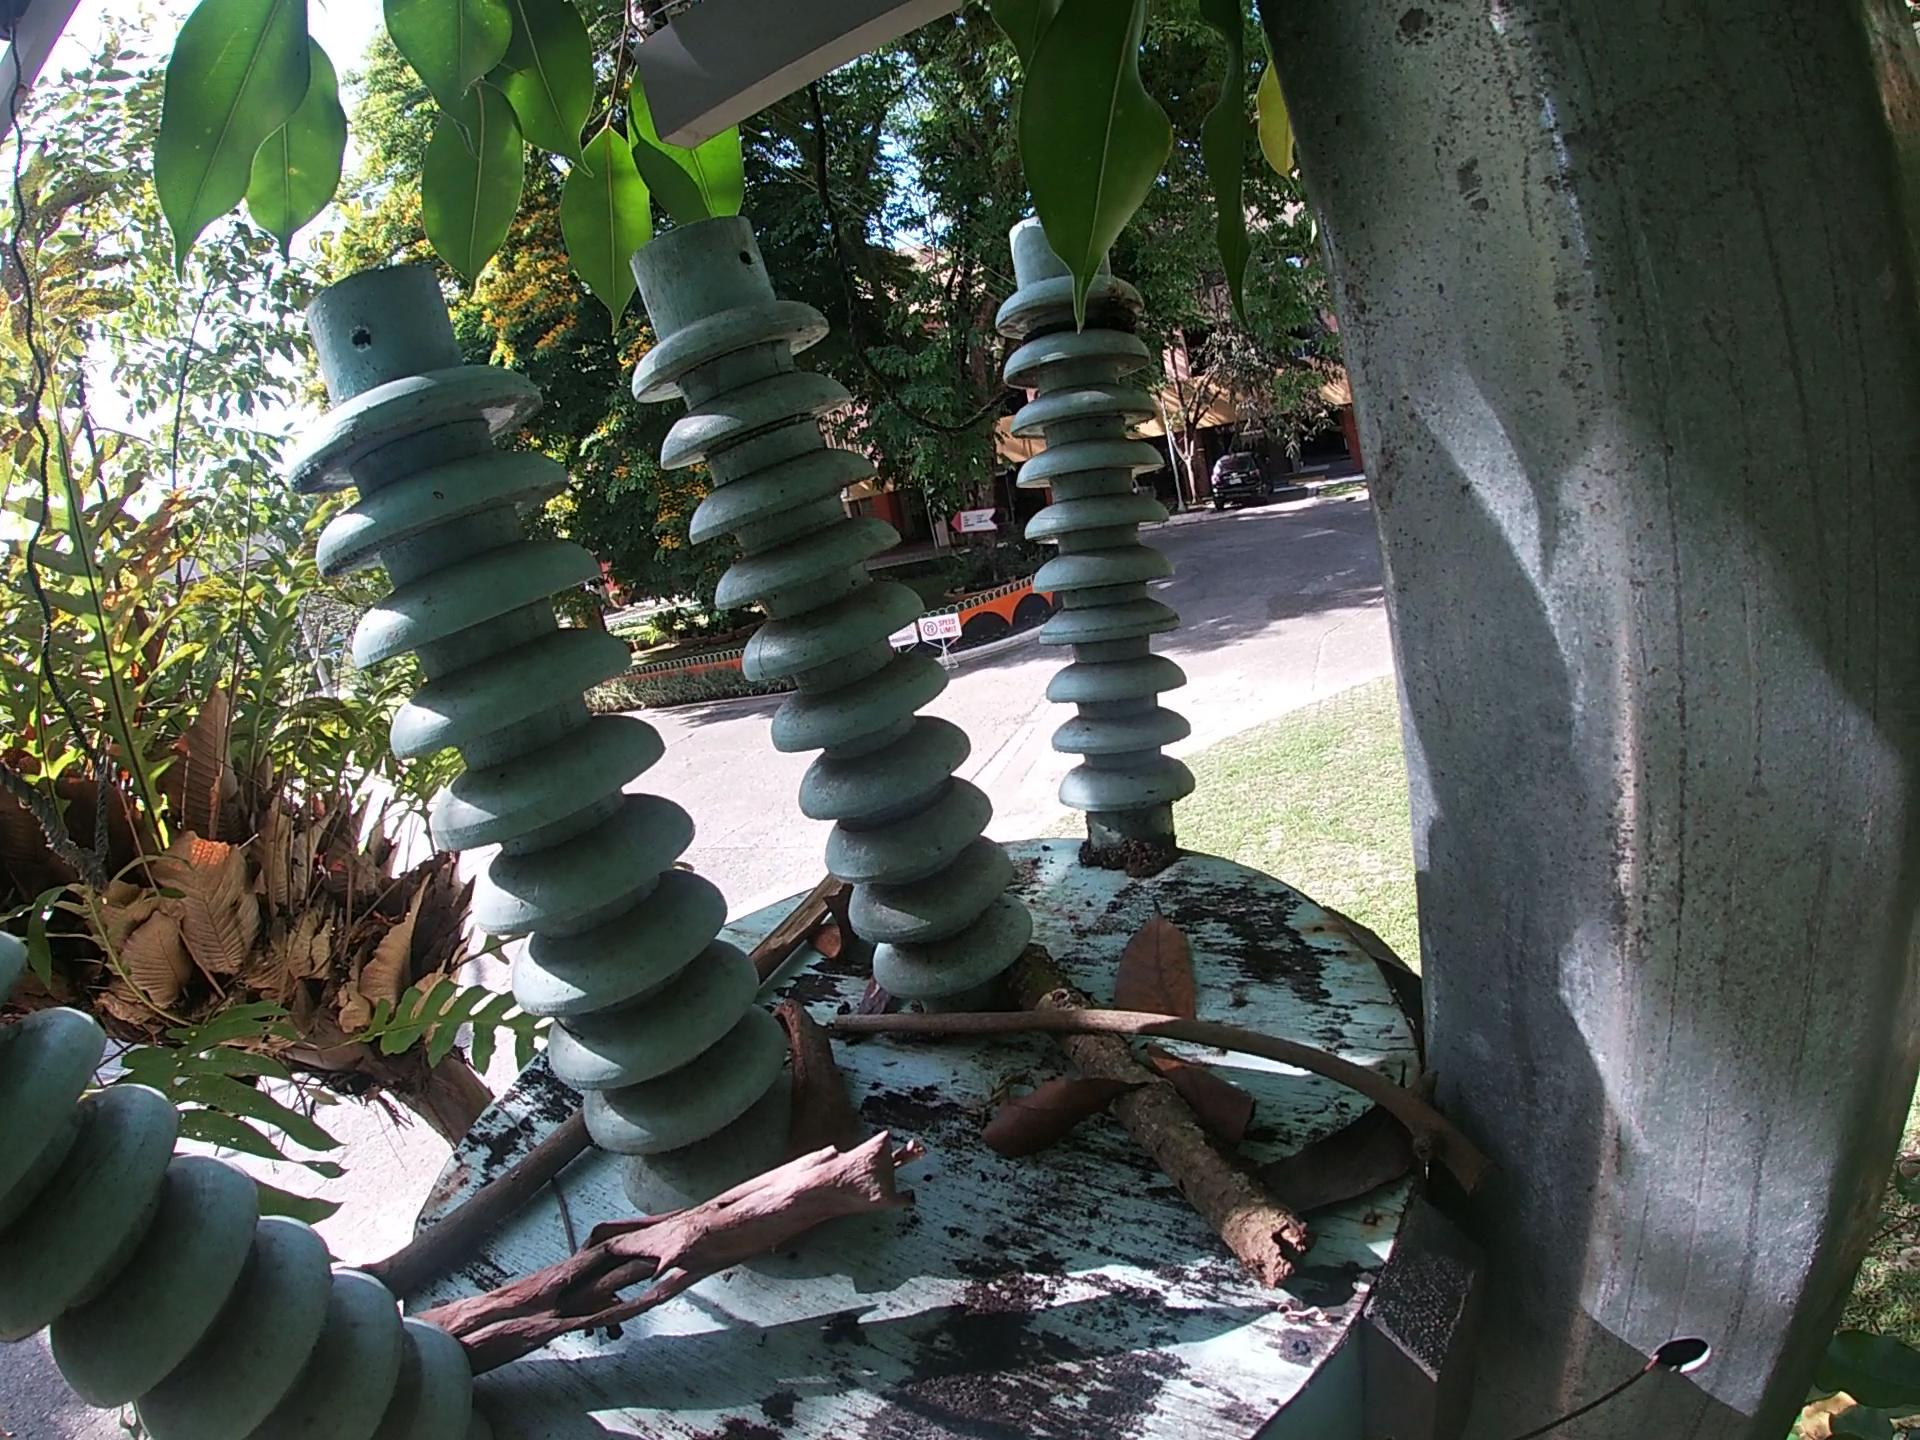leaf: (1252, 1066, 1445, 1218), (972, 1068, 1149, 1162), (1143, 1036, 1262, 1153), (1116, 898, 1208, 1026)
mahogany fruit: (776, 998, 850, 1168), (806, 883, 865, 965)
tree branch: (813, 1001, 1506, 1201), (401, 1124, 934, 1376), (1001, 936, 1315, 1298), (348, 1110, 597, 1302), (745, 870, 853, 989)
